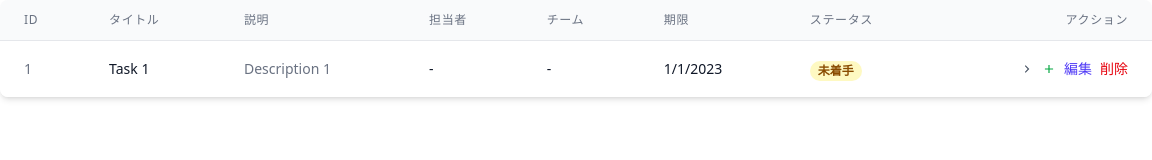
Test: TaskList Component › should cancel edit mode when cancel button is clicked
Expected: the text "Task 1" is shown, [109,59,149,78]
Click edit button
Click the button "編集" at (1078, 69), box [1064,59,1092,79]
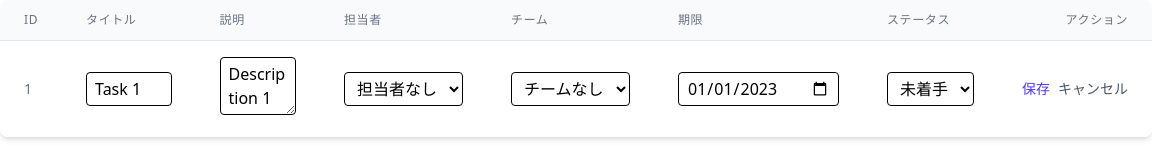
Now the button "保存" is shown, box [1022,79,1050,99]
Now the button "キャンセル" is shown
Click cancel button
Click the button "キャンセル" at (1093, 89), box [1058,79,1128,99]
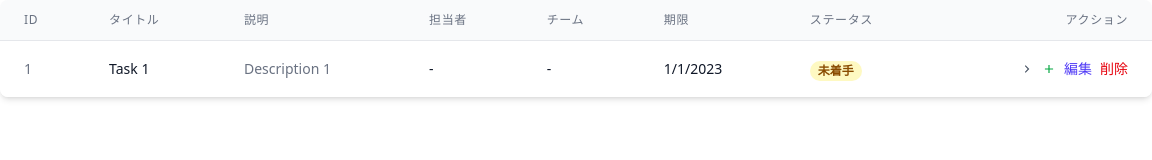
Now the button "保存" is gone
Now the button "キャンセル" is gone
Now the button "編集" is shown, box [1064,59,1092,79]
